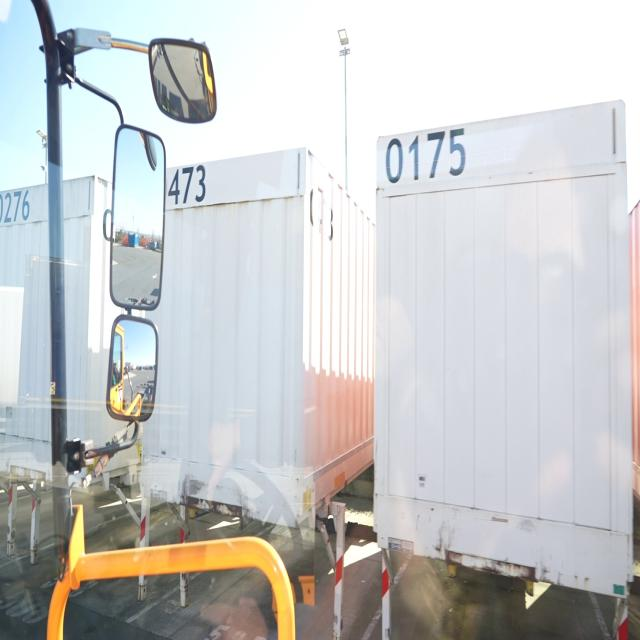Code: (383, 121, 467, 188)
